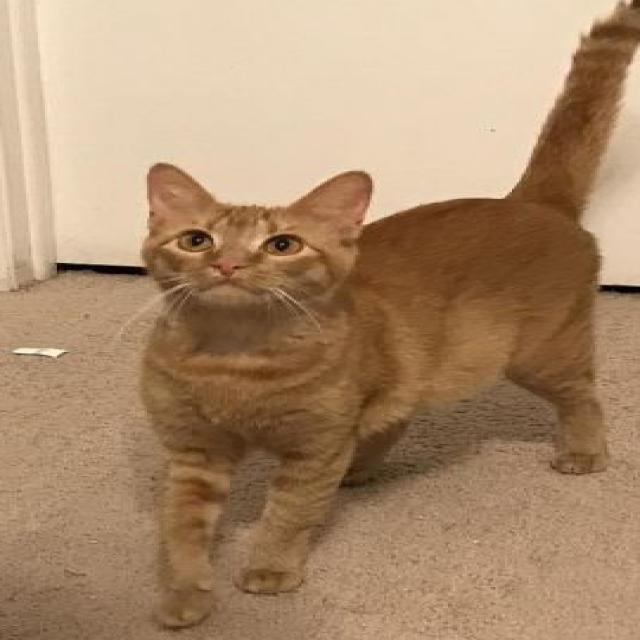Abyssinian: (125, 0, 640, 630)
